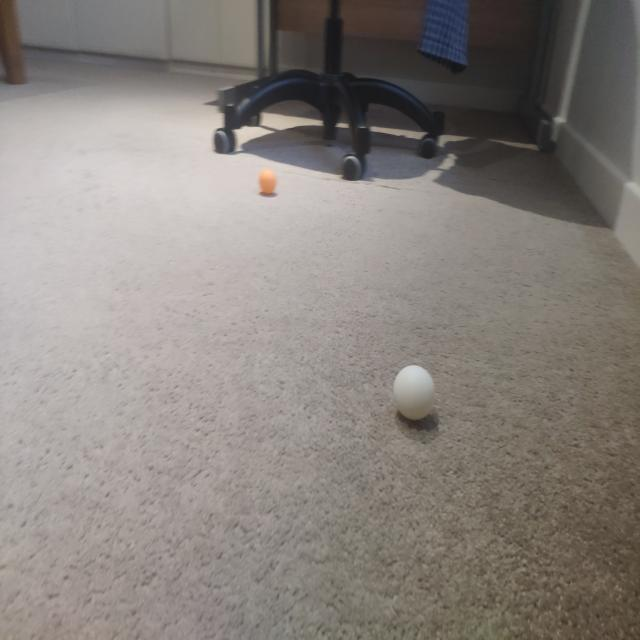oball: (254, 163, 282, 200)
